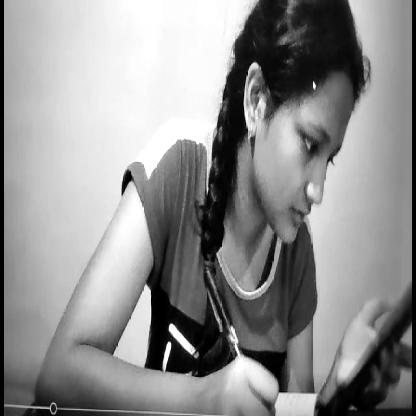Distracted: (224, 0, 364, 243)
